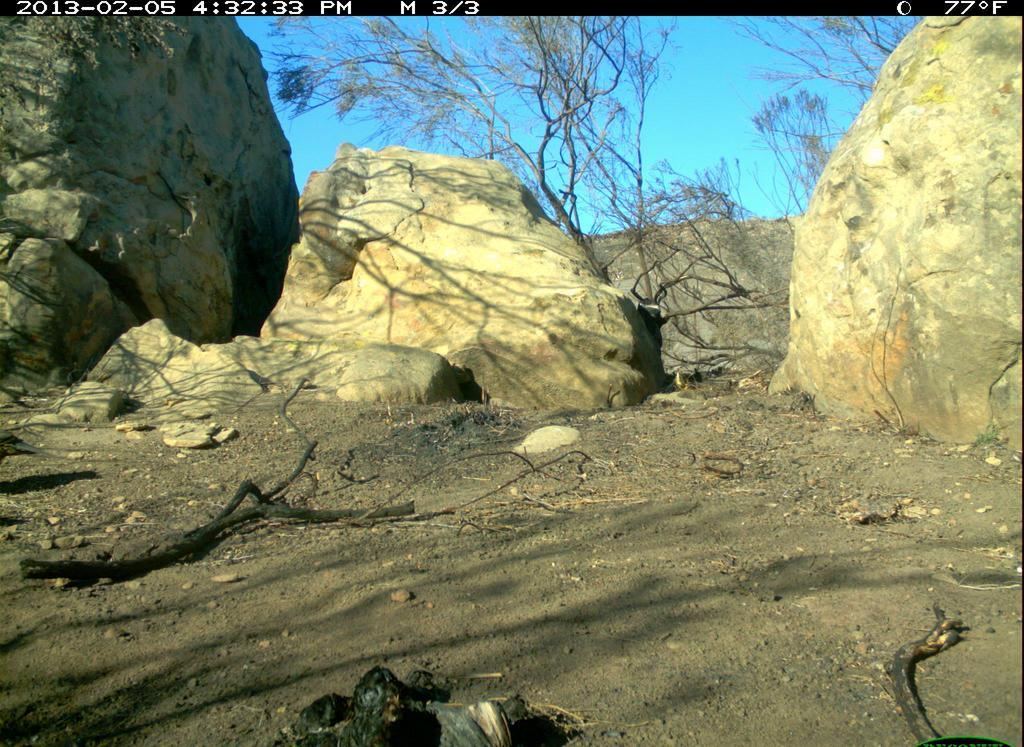bird: (1, 427, 63, 475)
